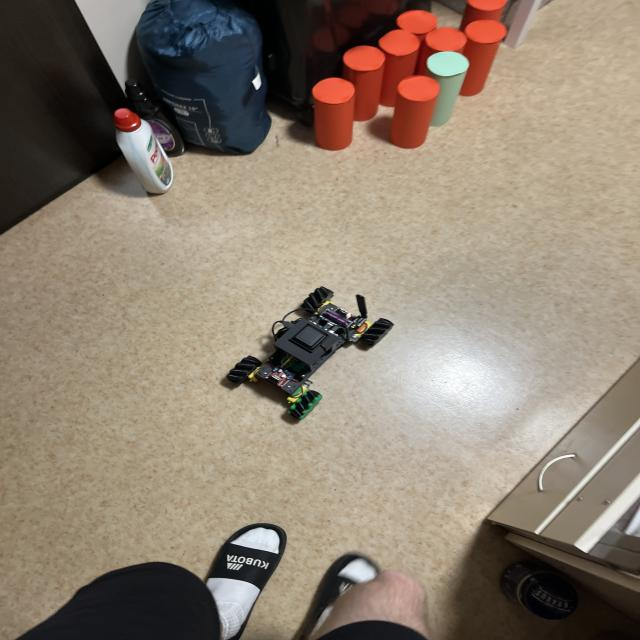robot: (226, 287, 393, 420)
